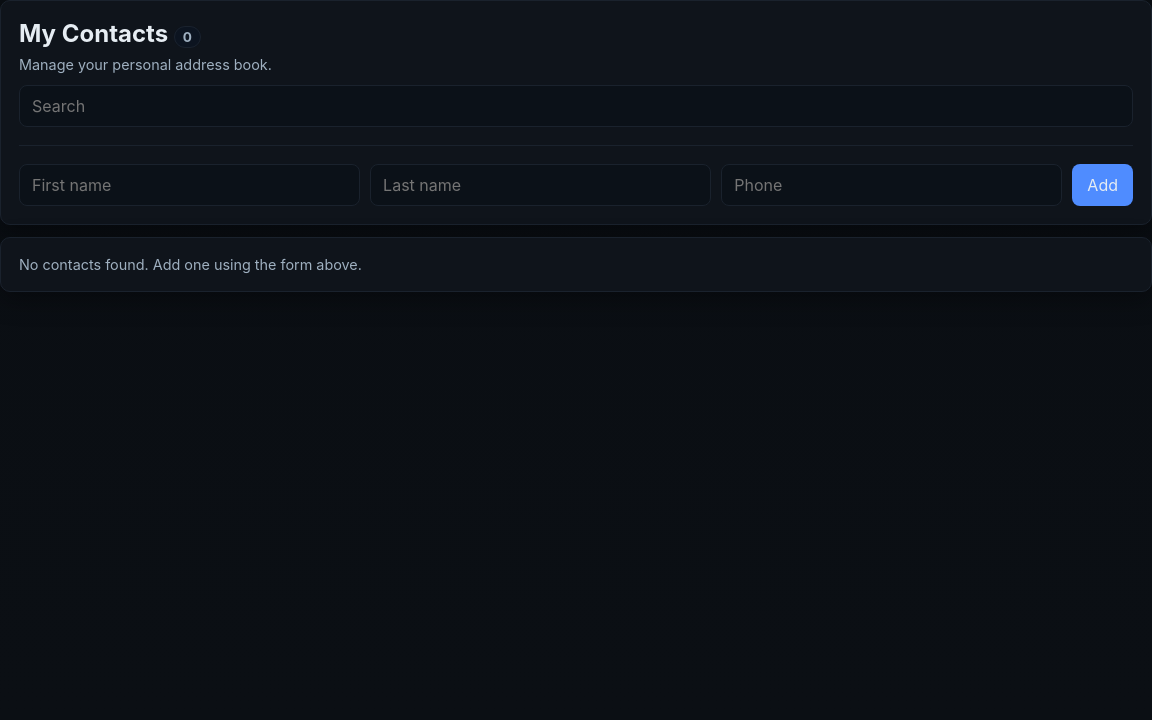
Test: <Contacts /> › creates a contact and reloads list
This screenshot has width=1152, height=720.
Expected: the text "No contacts found. Add one using the form above." is shown, x1=19 y1=256 x2=362 y2=273
Type "New" into the field with placeholder "First name" at [190, 185], box x1=19 y1=164 x2=360 y2=206
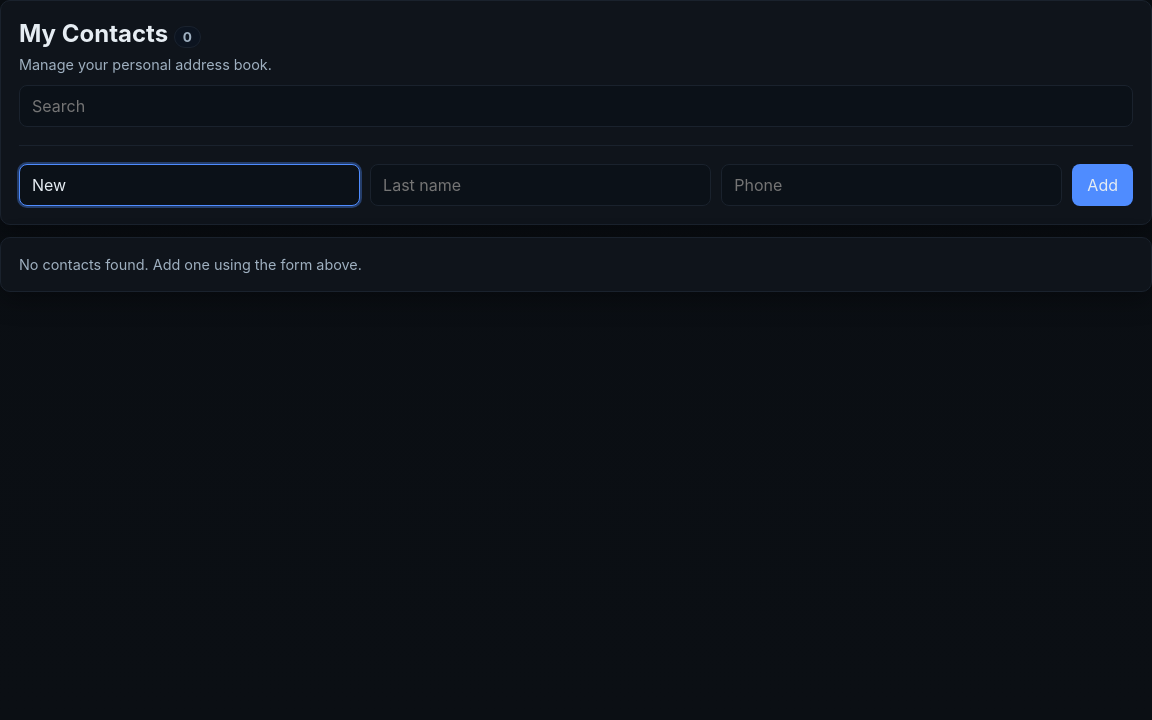
Type "Guy" into the field with placeholder "Last name" at [541, 185], box x1=370 y1=164 x2=711 y2=206
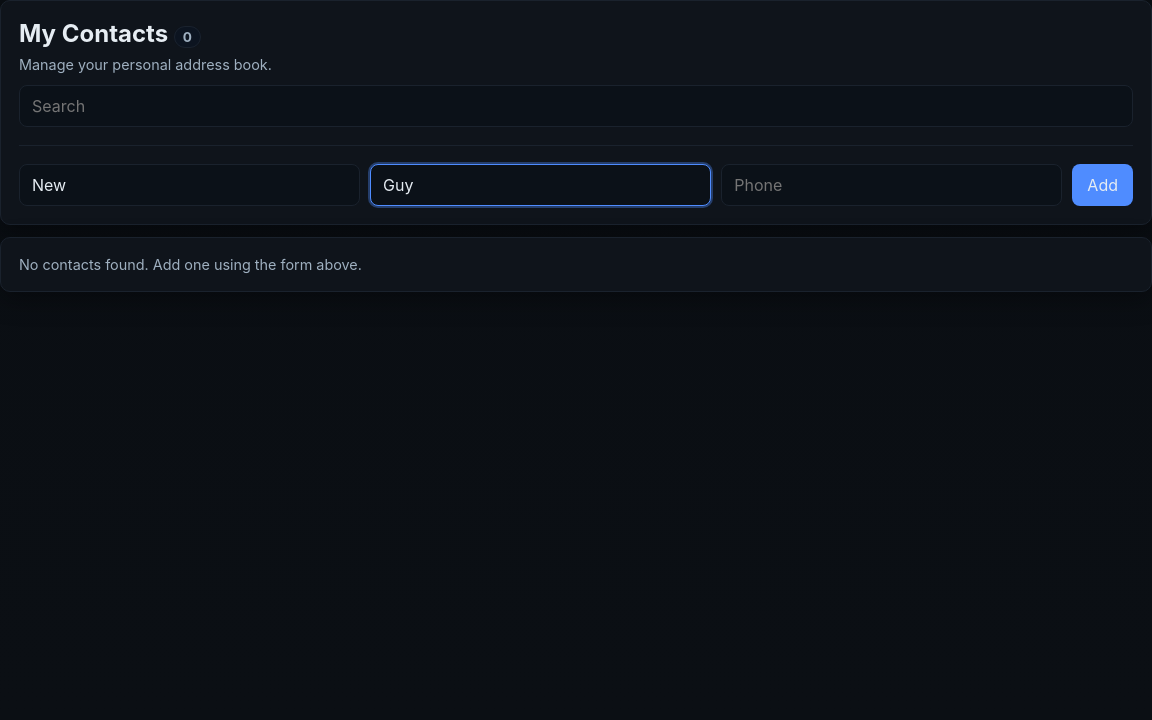
Type "0600000099" into the field with placeholder "Phone" at [892, 185], box x1=721 y1=164 x2=1062 y2=206
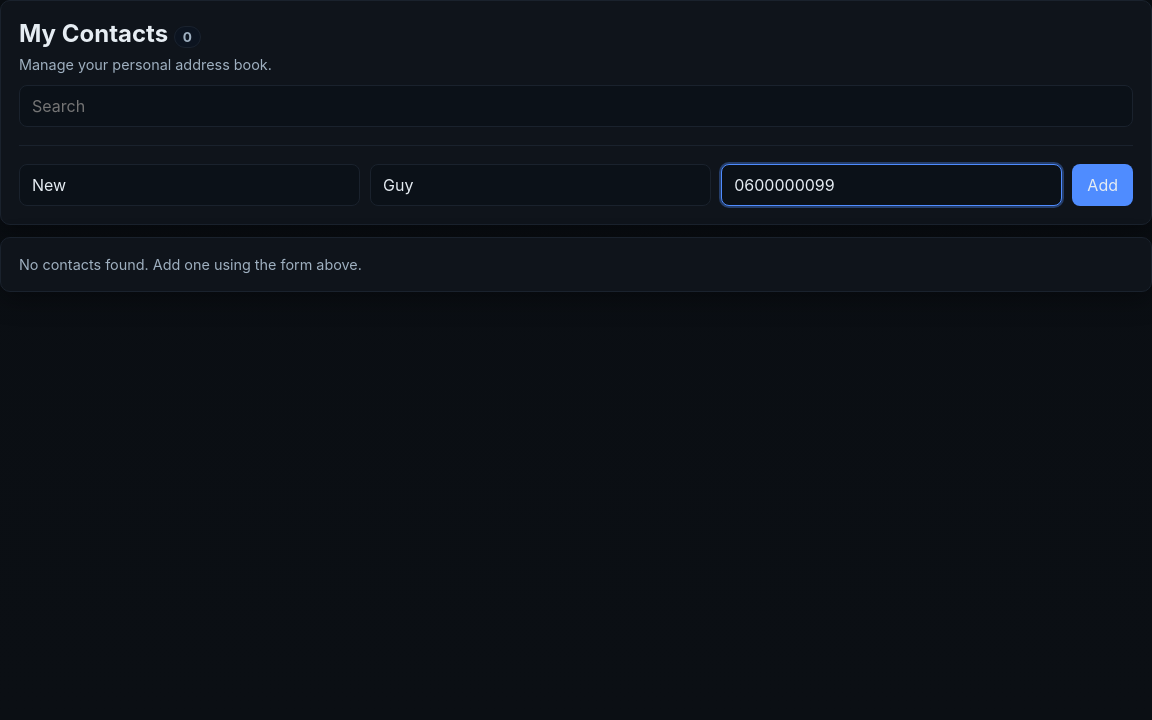
Click the button "Add" at [1103, 185], box x1=1072 y1=164 x2=1133 y2=206
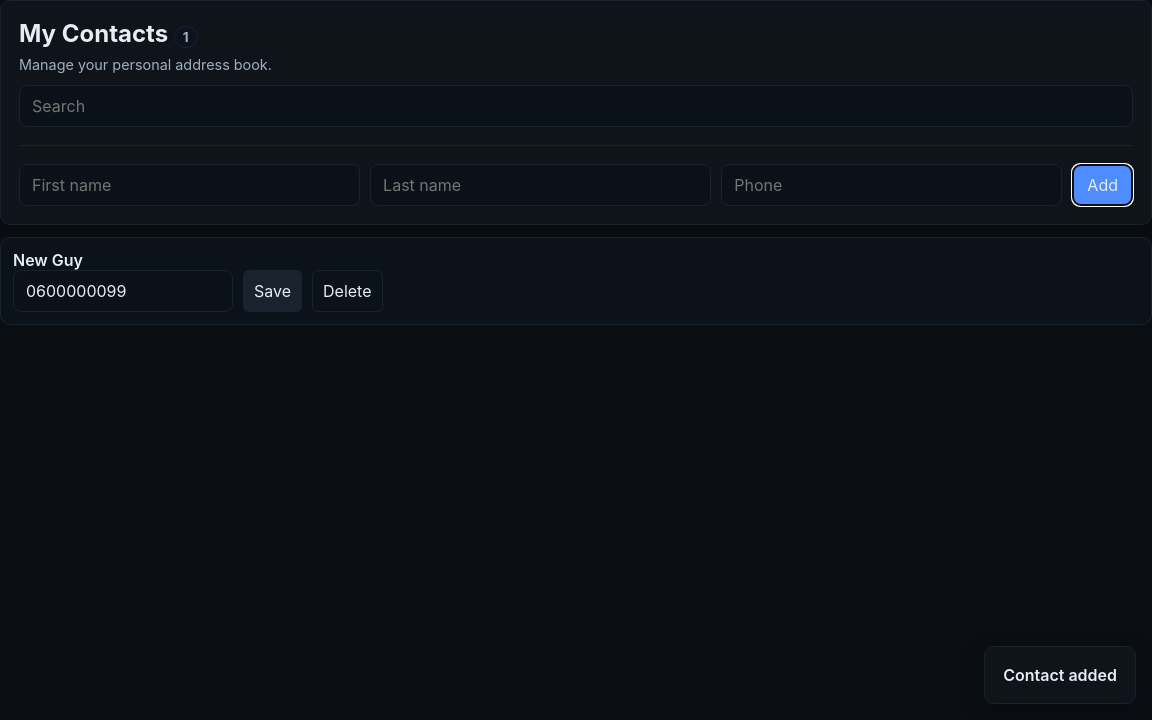
Now the text "New Guy" is shown, box x1=13 y1=250 x2=83 y2=270
